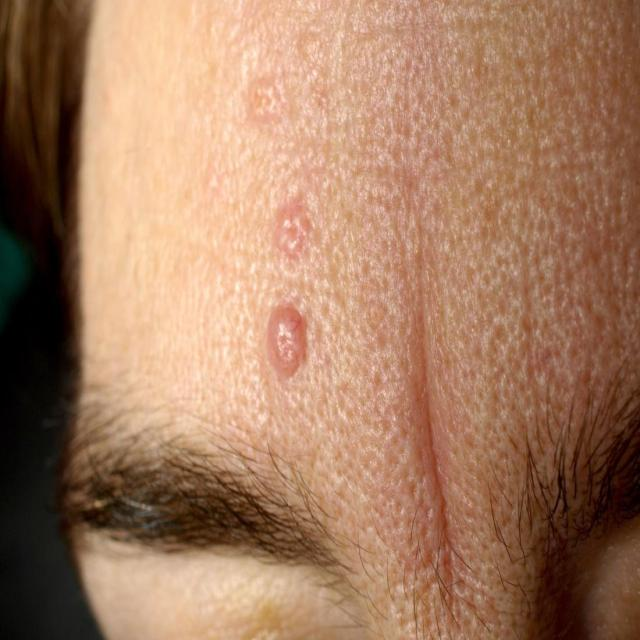Acne: (258, 262, 326, 382)
Englarged-Pores: (89, 77, 563, 456)
